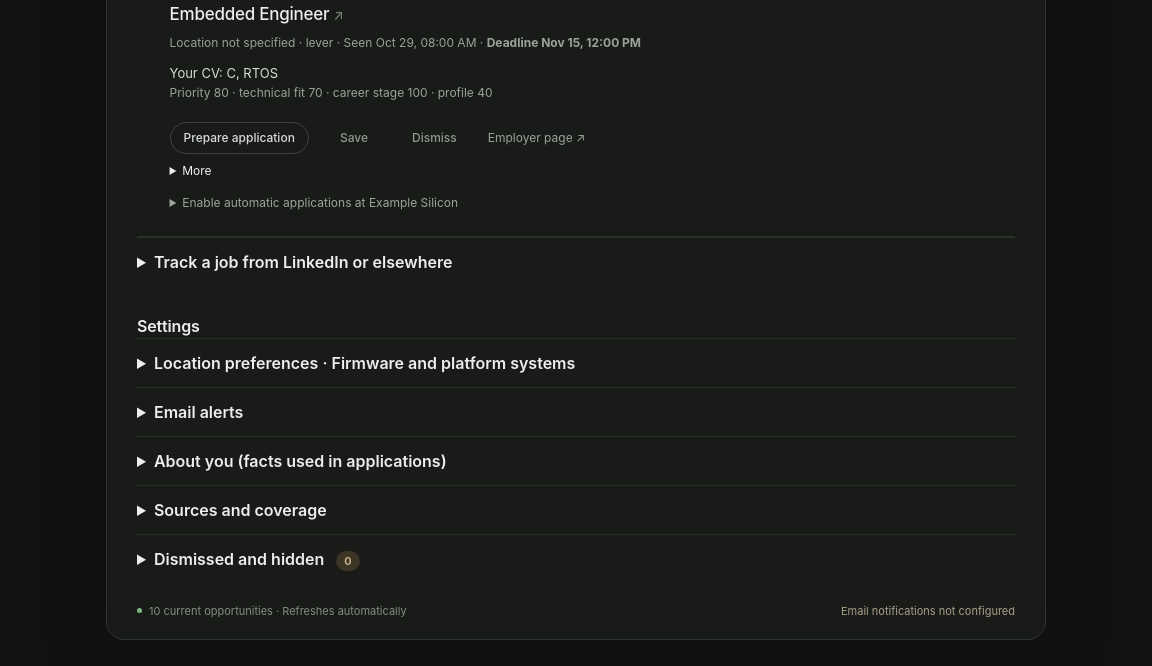
it: adds a fact unapproved and approves it only when asked
This screenshot has width=1152, height=666.
(page scrolled)
Click the heading "About you (facts used in applications)".
click(300, 461)  # box [154,451,447,471]
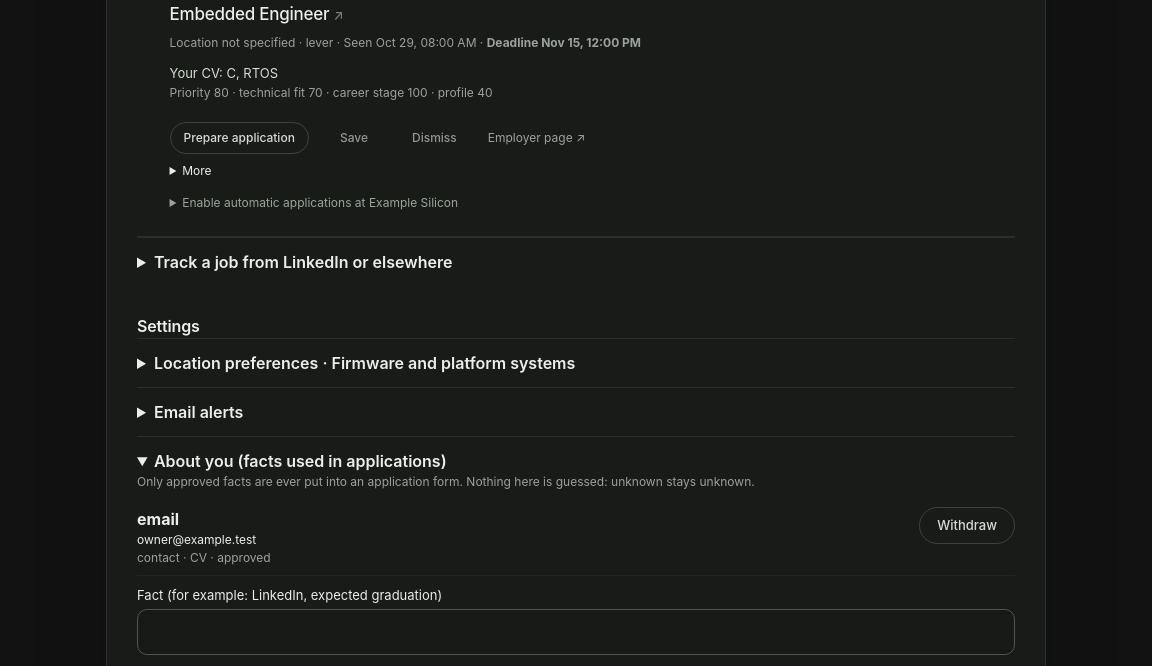
Check: the text "owner@example.test" is shown, box [137,531,271,549]
Type "LinkedIn" into the field labelled "Fact (for example: LinkedIn, expected graduation)".
click(576, 632); type("LinkedIn")  # box [137,609,1015,655]
(page scrolled)
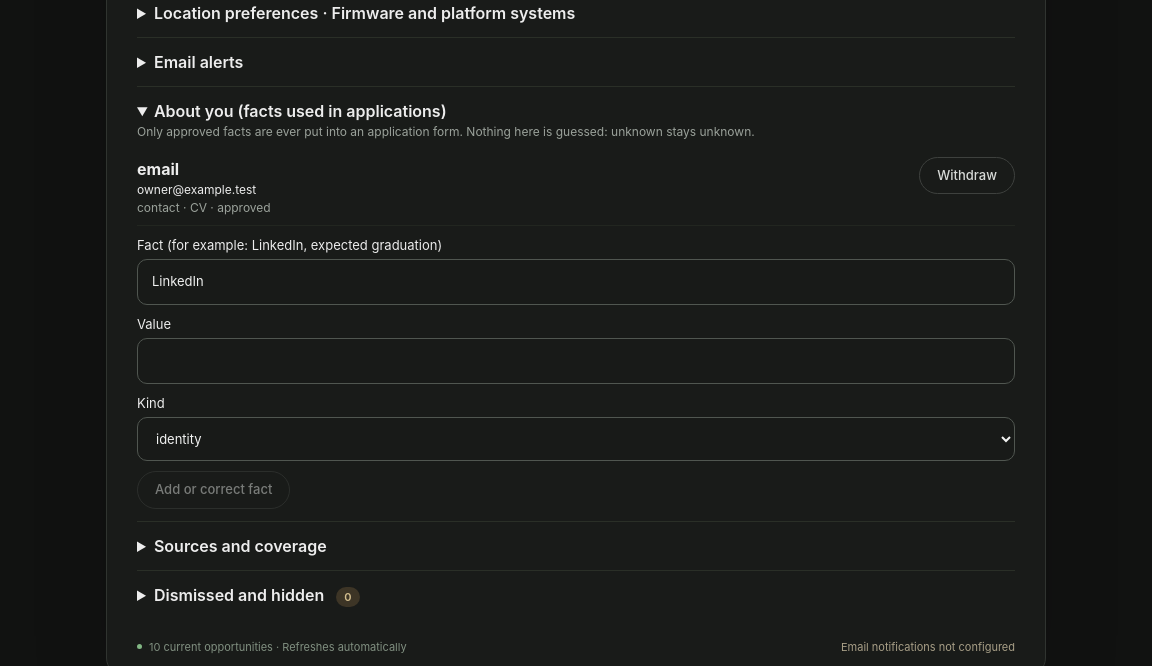
Type "https://www.linkedin.com/in/example" into the field labelled "Value".
click(576, 361); type("https://www.linkedin.com/in/example")  # box [137,338,1015,384]
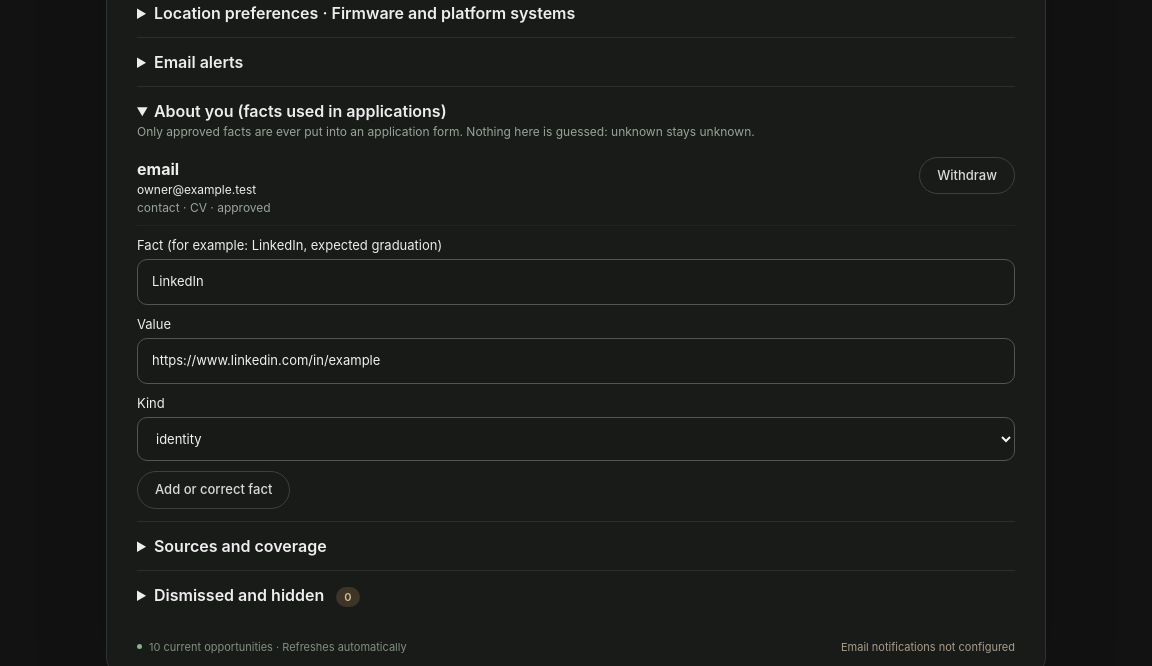
Select "contact" in the dropdown labelled "Kind" at (576, 439), box [137,417,1015,461]
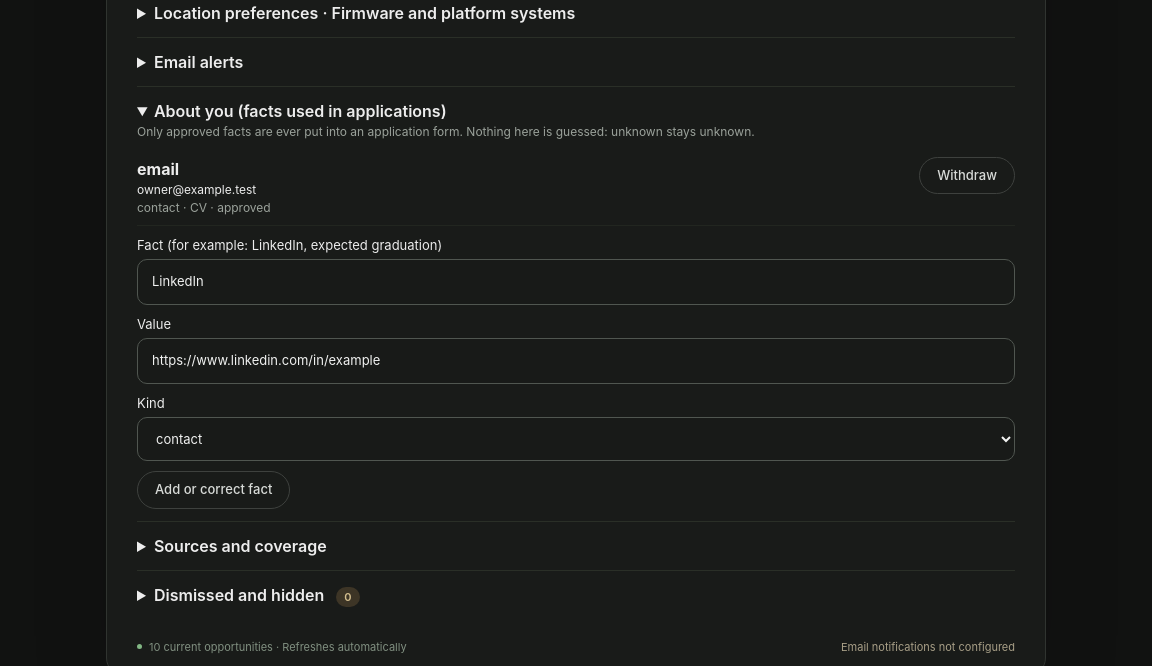
Click the button "Add or correct fact".
click(214, 490)  # box [137,471,290,509]
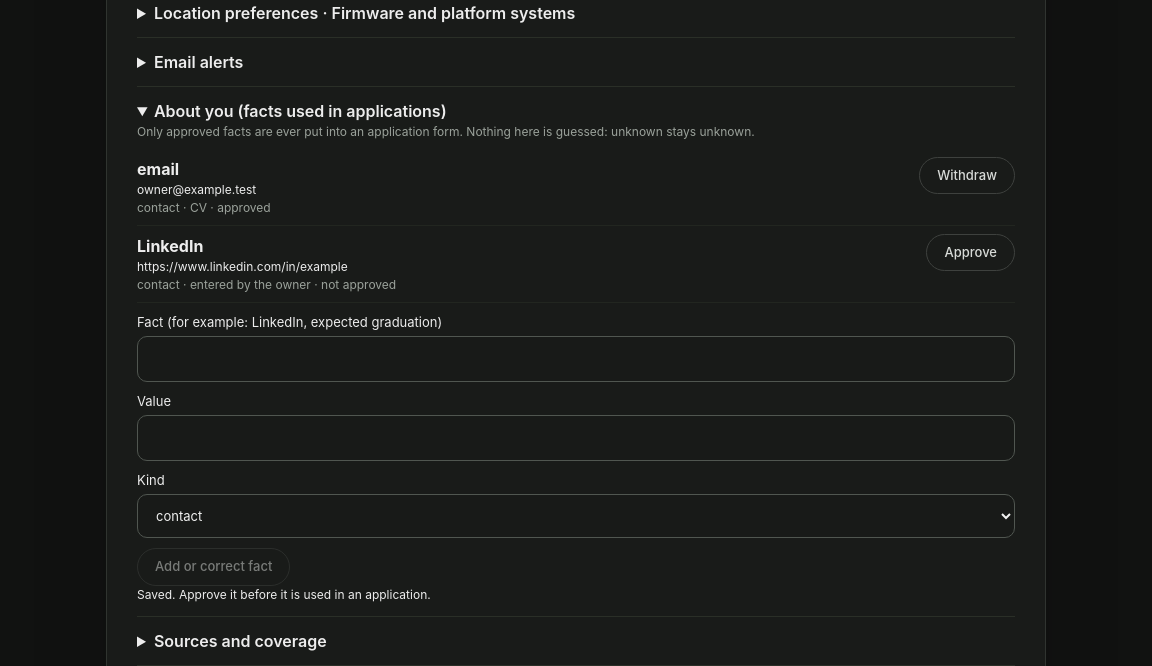
Check: the text "Saved. Approve it before it is used in an application." is shown, box [137,587,431,602]
Check: the text "contact · entered by the owner · not approved" is shown, box [137,276,396,294]
Click the button "Approve".
click(971, 252)  # box [926,234,1015,271]
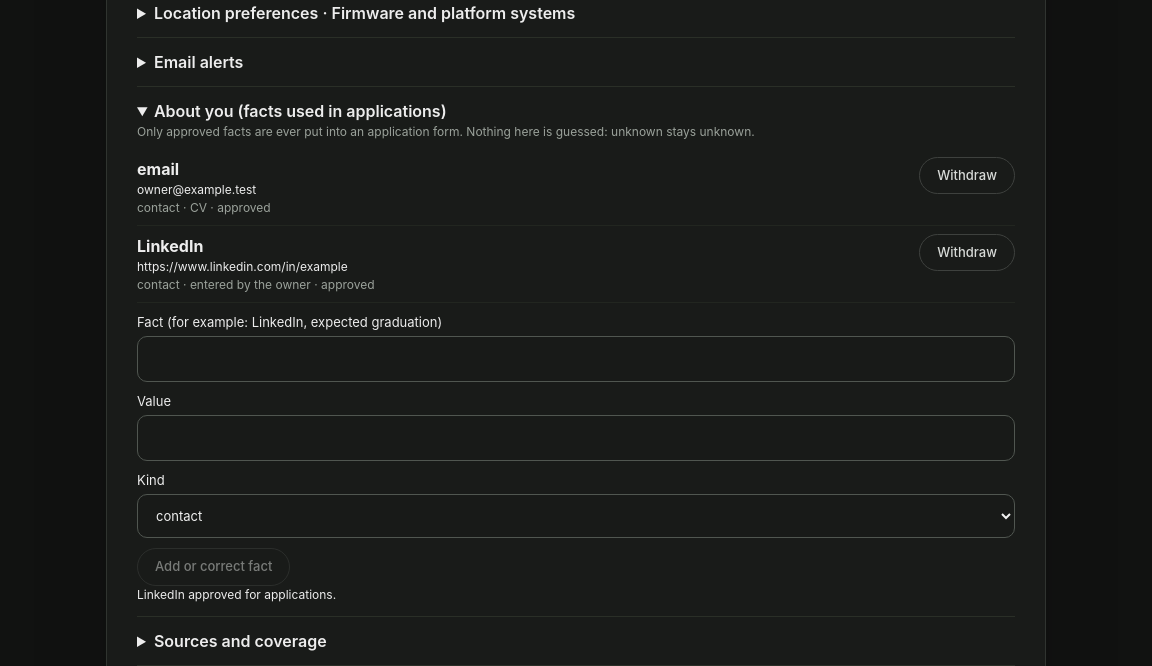
Check: the text "LinkedIn approved for applications." is shown, box [137,587,336,602]
